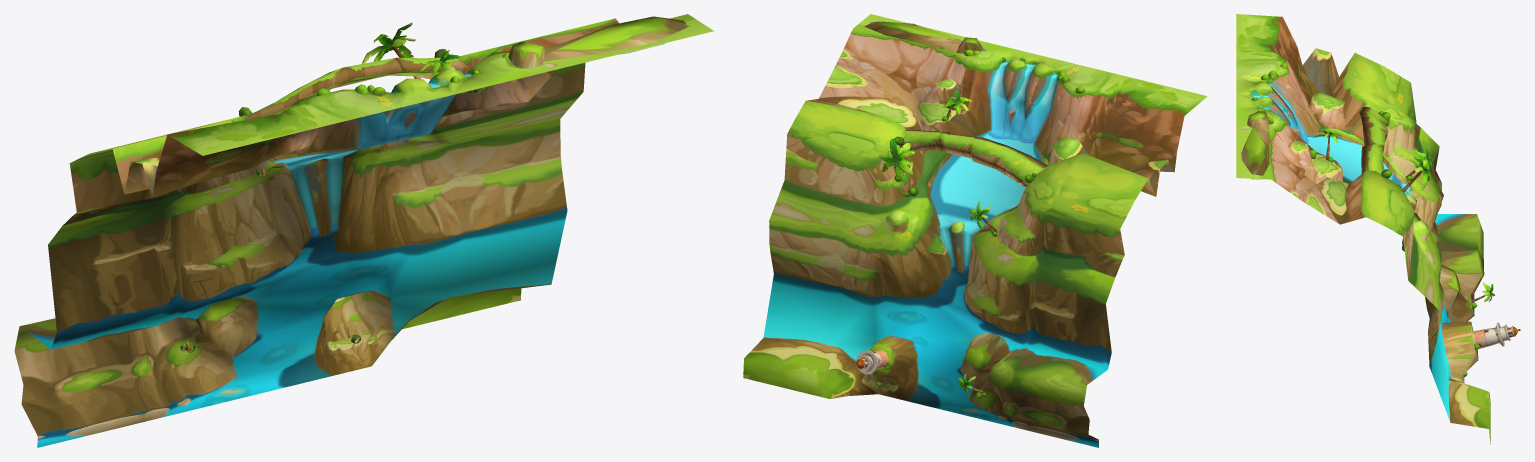
File: Chapter5Model4.FBX
3 views of the same model, side by side, from view 1: azimuth 30°, elevation 25°; view 2: azimuth 150°, elevation 25°; view 3: azimuth 270°, elevation 25° (orthographic). The views are drawn at different scales.
Visible parts, largest first — view 1: Chapter5Model4Model1, Chapter5Model4Model2, Chapter5Model4Model3; view 2: Chapter5Model4Model1, Chapter5Model4Model2, Chapter5Model4Model3; view 3: Chapter5Model4Model1, Chapter5Model4Model2, Chapter5Model4Model3.
Part boxes in pixels (x1=…): Chapter5Model4Model1: x1=14, y1=14, x2=713, y2=447; Chapter5Model4Model2: x1=180, y1=49, x2=510, y2=353; Chapter5Model4Model3: x1=186, y1=23, x2=465, y2=350; Chapter5Model4Model1: x1=743, y1=14, x2=1207, y2=447; Chapter5Model4Model2: x1=855, y1=49, x2=1084, y2=398; Chapter5Model4Model3: x1=881, y1=90, x2=997, y2=395; Chapter5Model4Model1: x1=1236, y1=14, x2=1490, y2=444; Chapter5Model4Model2: x1=1251, y1=62, x2=1520, y2=376; Chapter5Model4Model3: x1=1313, y1=128, x2=1494, y2=302.
Bounding box in the file's own units: 970 × 710 × 773.
